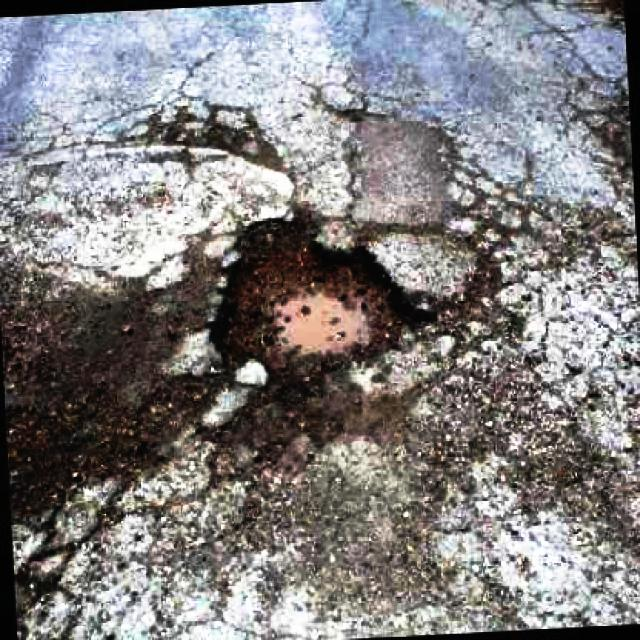pothole: (207, 209, 436, 394)
